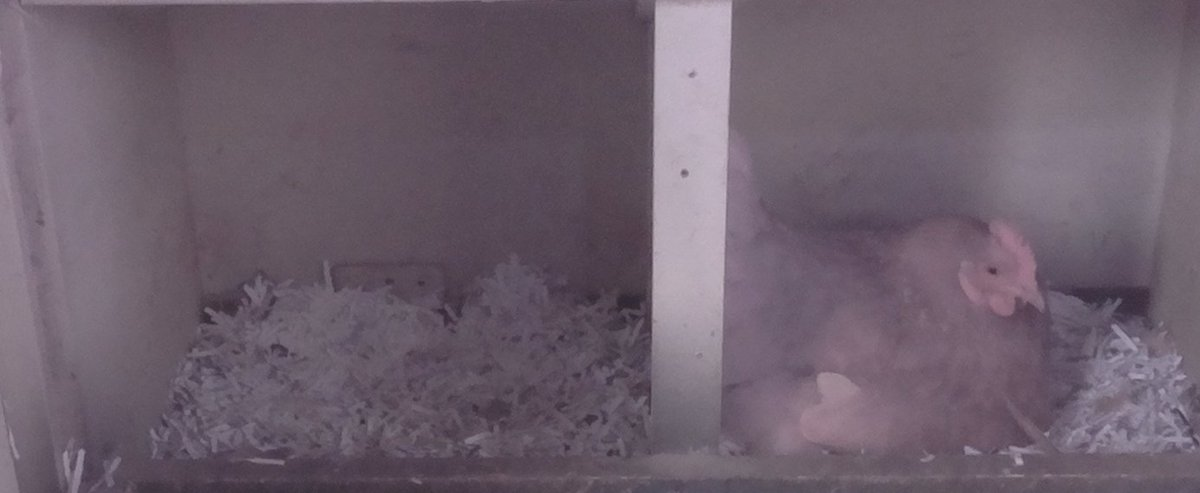hen: (730, 196, 1060, 452)
